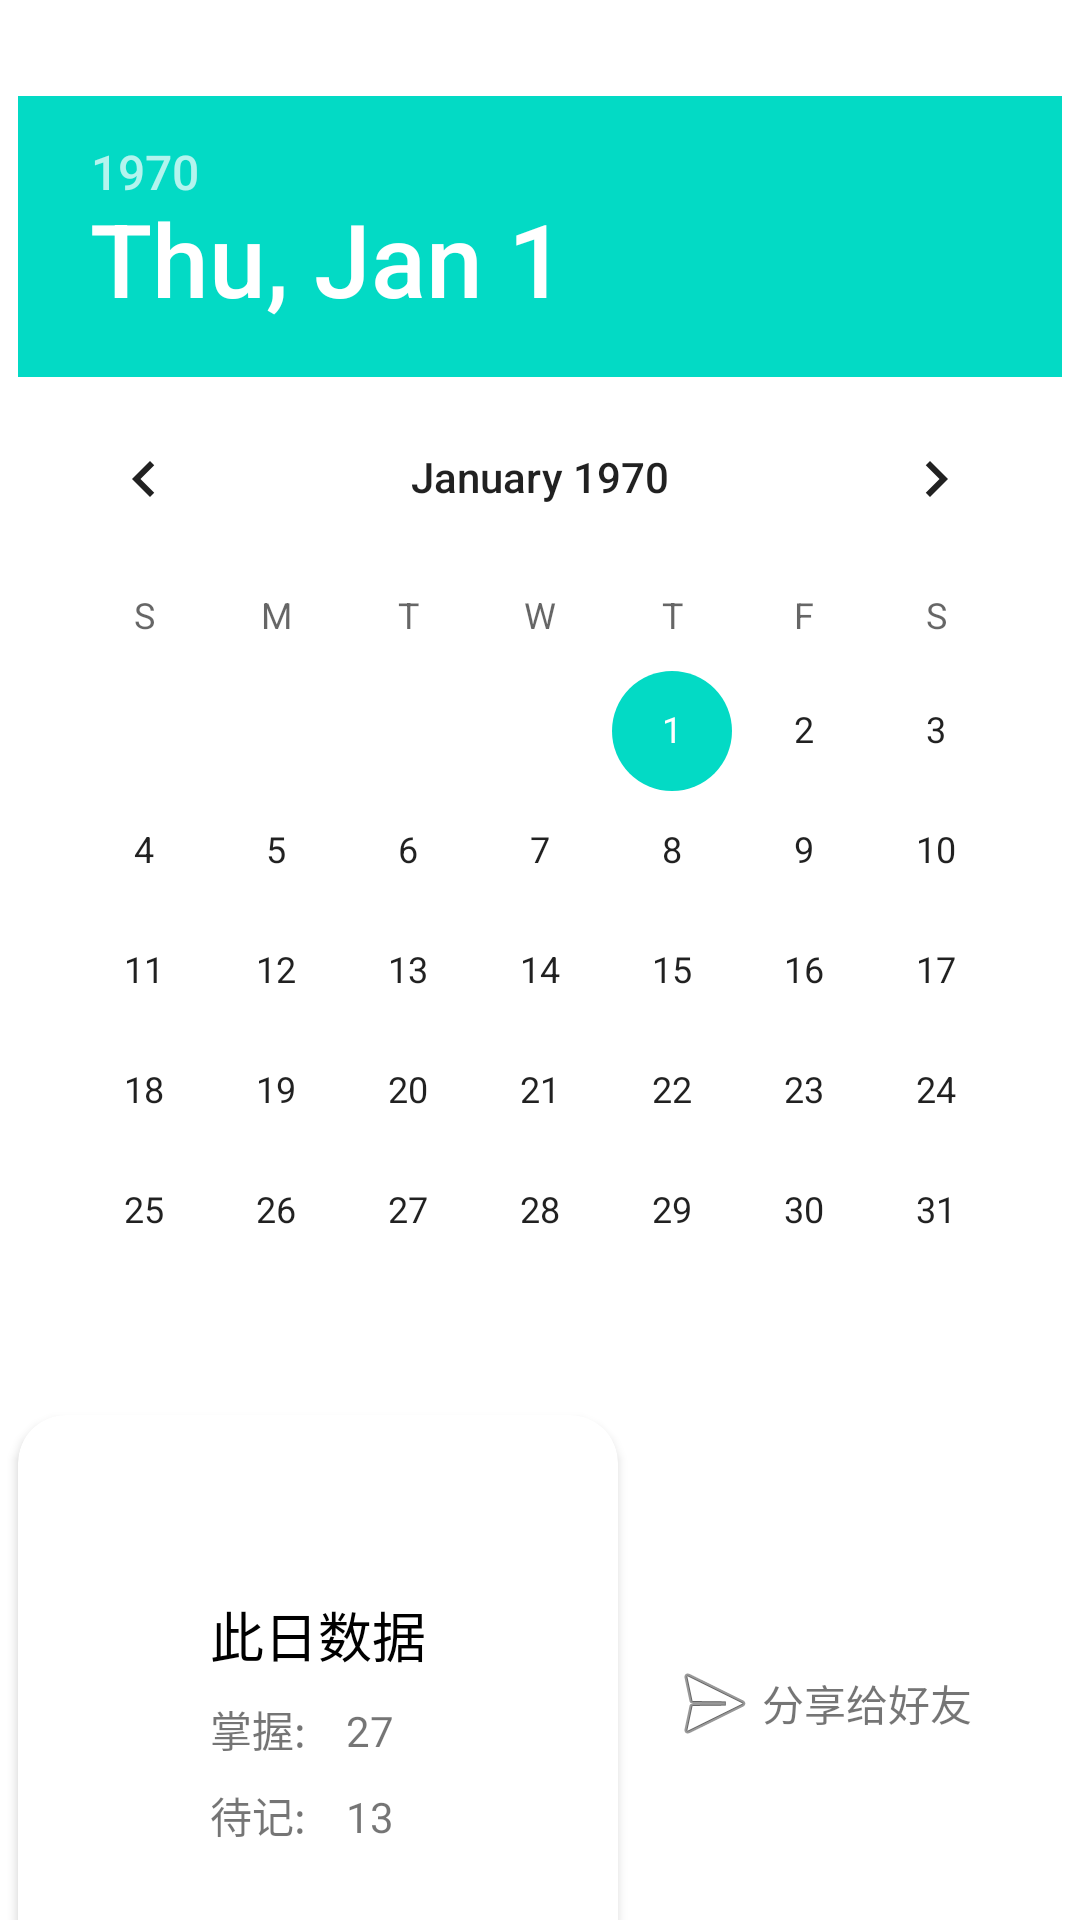

Screen size 1080*1920. Icon name, then its center in pixels as (x=x, y=y):
send: (x=715, y=1703)
